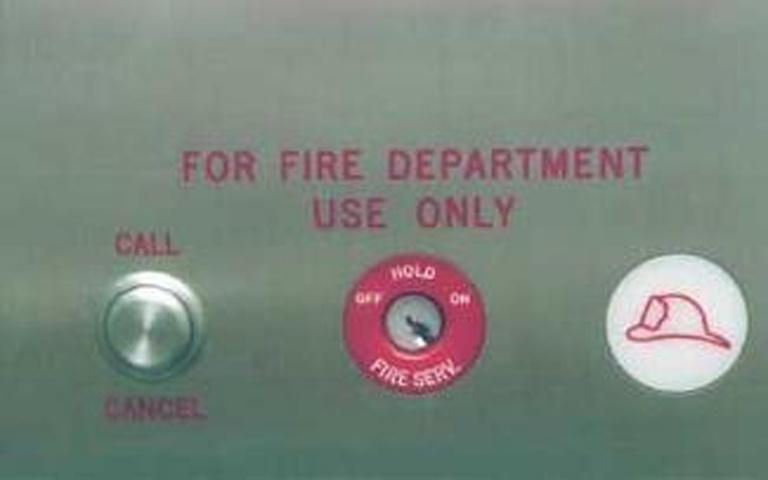keyhole: (341, 253, 485, 393)
unknown: (603, 252, 747, 391), (94, 270, 205, 383)
